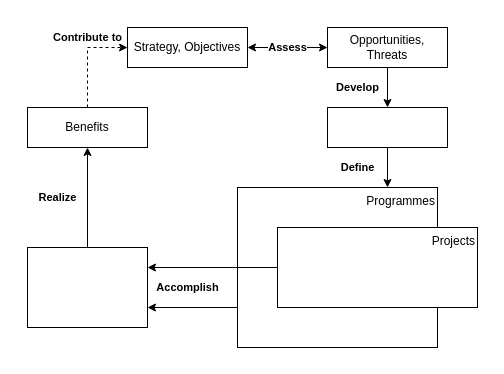
Image size: 504x374. Some labels were removed from this diagram. Each missing label, with the centre of its shape:
"Outcomes, Outputs, Deliverables" belongs at point 87,287.
"Requirements, Business Cases" belongs at point 387,127.
